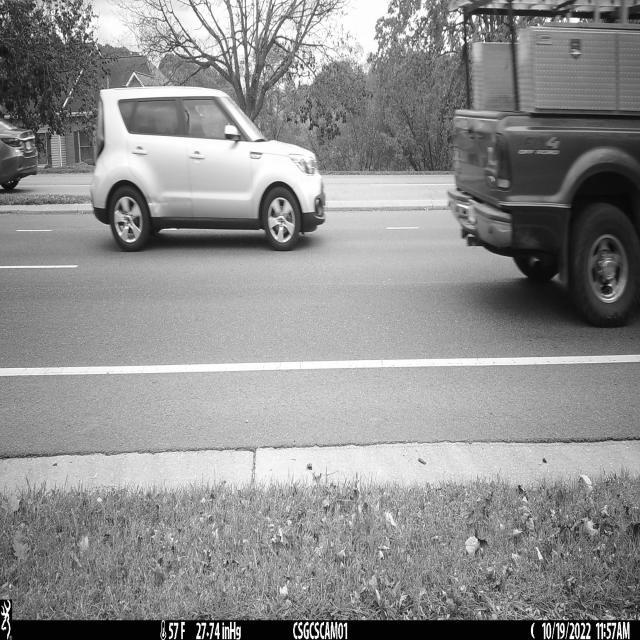Hatchback: (90, 86, 326, 252)
